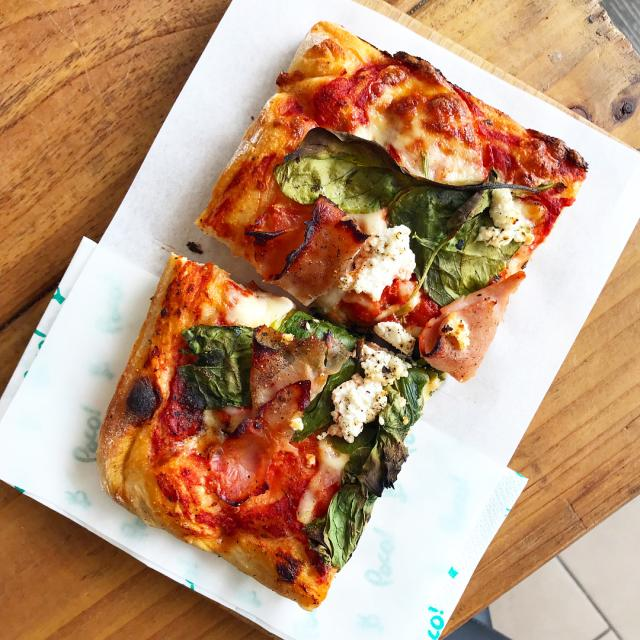basil: (390, 163, 520, 307), (274, 126, 414, 232), (173, 319, 255, 416), (302, 480, 367, 569), (294, 359, 356, 445), (349, 414, 407, 501), (282, 308, 362, 356), (379, 366, 432, 432)
pizza: (98, 21, 588, 609)
